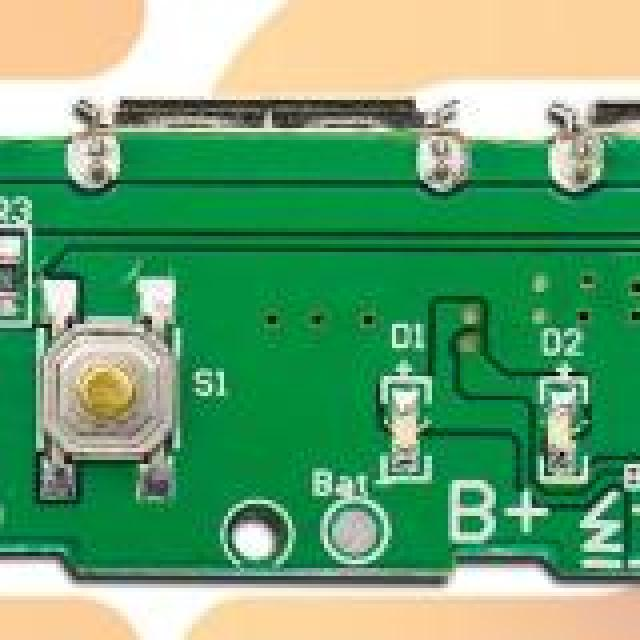LED: (540, 388, 582, 474), (392, 388, 426, 472)
resistor: (0, 252, 24, 304)
switch: (44, 312, 184, 484)
